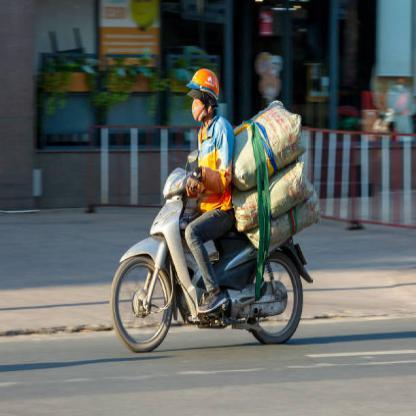Motorcycle: (108, 155, 312, 359)
